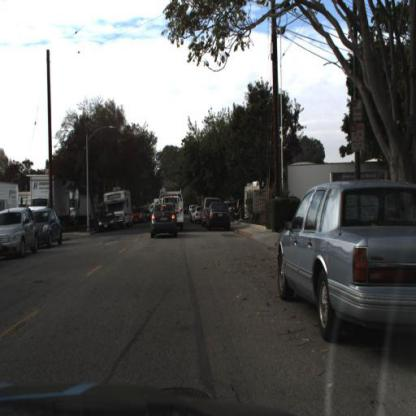car: (264, 160, 416, 376), (273, 177, 416, 343), (1, 200, 41, 268), (143, 197, 182, 246), (36, 207, 64, 255), (204, 198, 234, 236), (160, 188, 185, 230), (204, 200, 232, 236), (114, 191, 134, 231), (93, 207, 118, 235), (97, 209, 118, 237), (173, 188, 186, 228), (189, 206, 206, 227), (132, 204, 145, 225)
truck: (20, 167, 65, 207), (25, 174, 70, 213), (105, 194, 135, 229)
